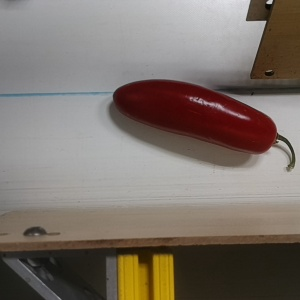Cut Point: (258, 112, 284, 158)
